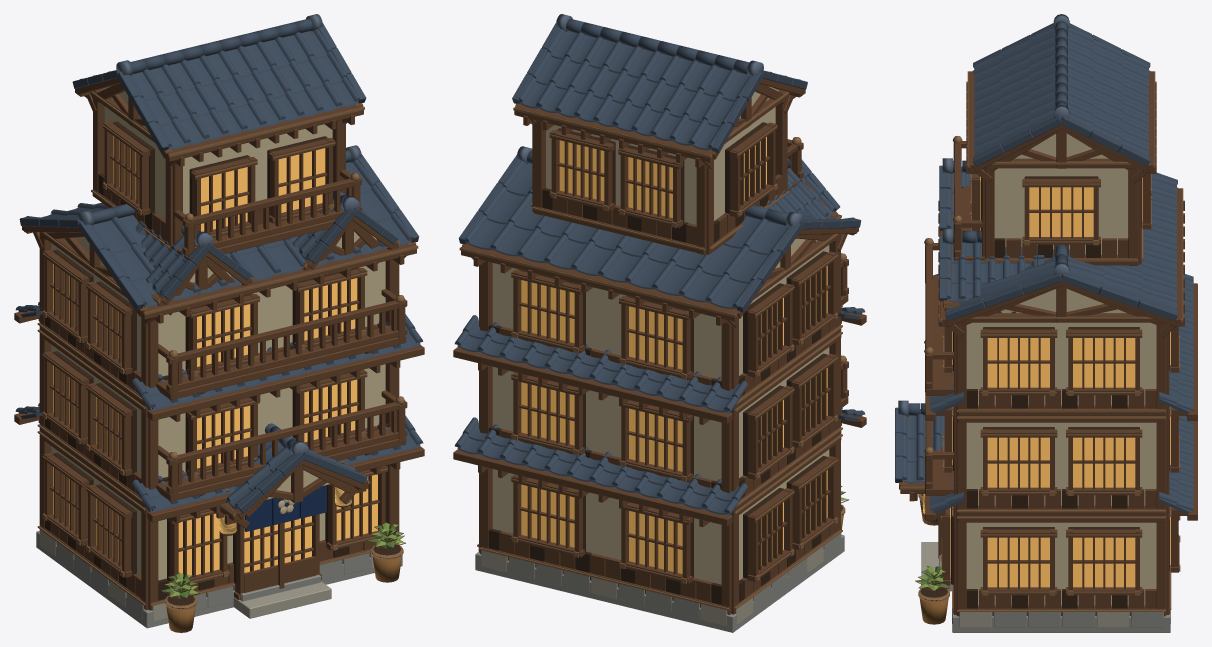
The picture shows the model from 3 angles, left to right: view 1: azimuth 30°, elevation 25°; view 2: azimuth 150°, elevation 25°; view 3: azimuth 270°, elevation 25°; orthographic projection. The views are drawn at different scales.
Parts seen in each view (by area): view 1: compact_hotel_3_geometry, compact_hotel_3_geometry ceramic; view 2: compact_hotel_3_geometry, compact_hotel_3_geometry ceramic; view 3: compact_hotel_3_geometry, compact_hotel_3_geometry ceramic.
Part boxes in pixels (x1=…): compact_hotel_3_geometry: x1=14, y1=31, x2=424, y2=632; compact_hotel_3_geometry ceramic: x1=15, y1=14, x2=423, y2=513; compact_hotel_3_geometry: x1=453, y1=31, x2=866, y2=632; compact_hotel_3_geometry ceramic: x1=454, y1=14, x2=865, y2=515; compact_hotel_3_geometry: x1=899, y1=32, x2=1197, y2=632; compact_hotel_3_geometry ceramic: x1=895, y1=14, x2=1193, y2=513.
Size of the model in its own units: 0.99 by 1.74 by 0.9352.
